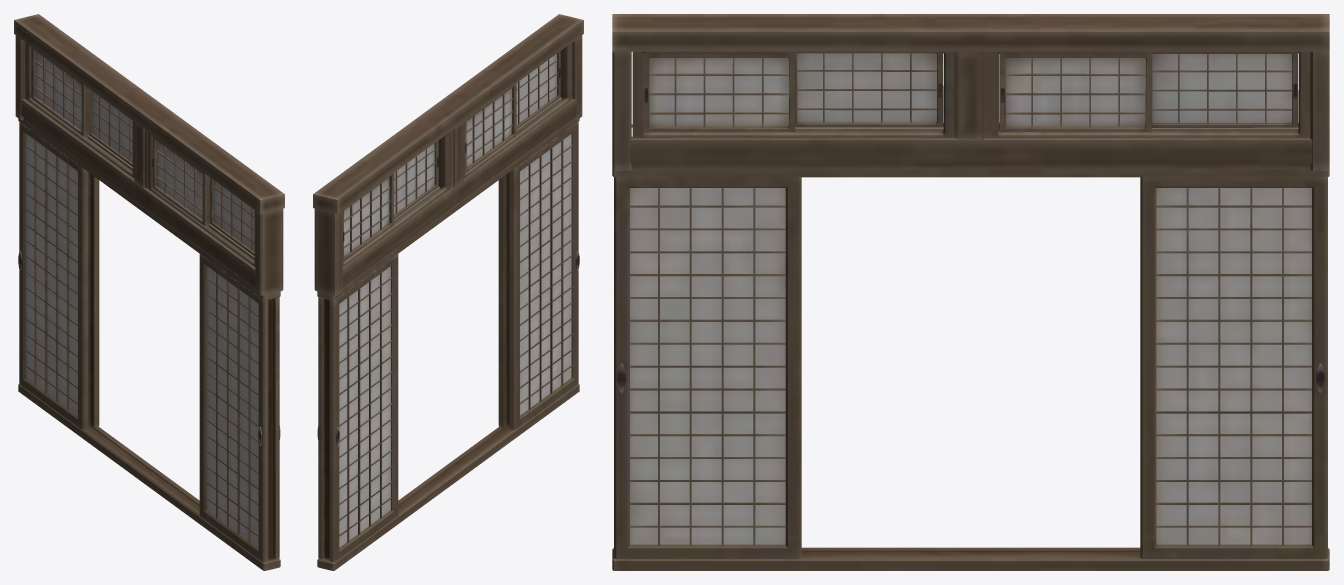
File: Architecture_JapaneseStyle_DoorB_95e0ee.glb
3 views of the same model, side by side, from view 1: azimuth 30°, elevation 25°; view 2: azimuth 150°, elevation 25°; view 3: azimuth 270°, elevation 25° (orthographic). The views are drawn at different scales.
Bounding box in the file's own units: 0.2324 × 3.36 × 4.02.
1 material, 1 textured.
